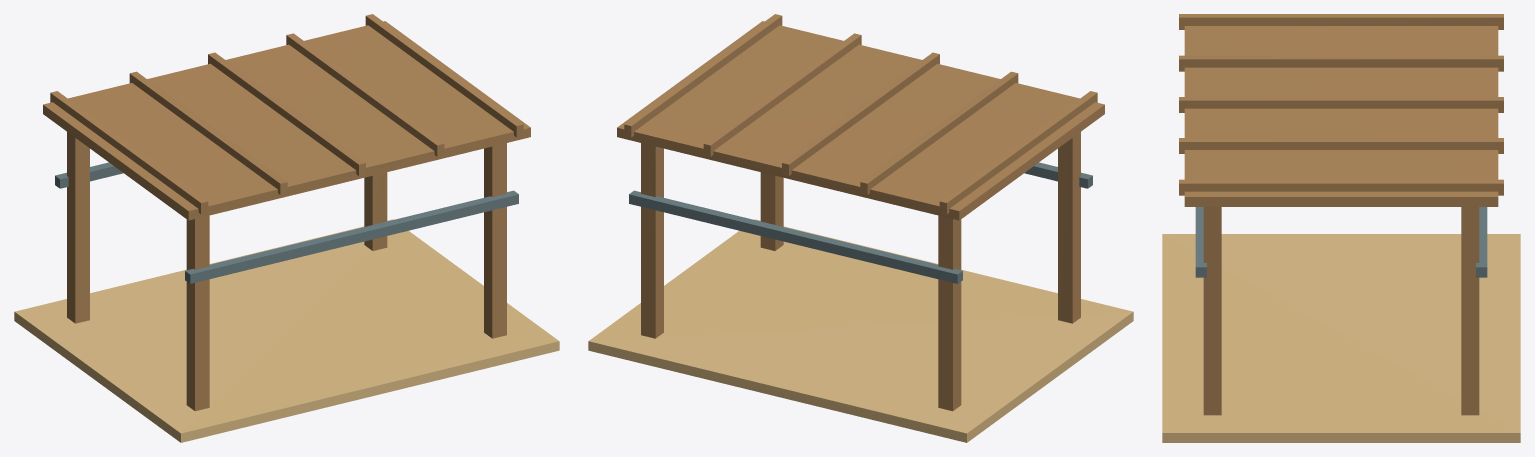
File: Shade-canopy.glb
3 renders of one model, left to right at view 1: azimuth 30°, elevation 25°; view 2: azimuth 150°, elevation 25°; view 3: azimuth 270°, elevation 25°, orthographic. The views are drawn at different scales.
Parts seen in each view (by area): view 1: shade-canopy-static-shade-earth, shade-canopy-static-shade-fabric, shade-canopy-static-shade-timber, shade-canopy-static-shade-teal, shade-canopy-static-shade-metal; view 2: shade-canopy-static-shade-earth, shade-canopy-static-shade-fabric, shade-canopy-static-shade-timber, shade-canopy-static-shade-teal, shade-canopy-static-shade-metal; view 3: shade-canopy-static-shade-earth, shade-canopy-static-shade-fabric, shade-canopy-static-shade-teal, shade-canopy-static-shade-timber, shade-canopy-static-shade-metal.
Boxes of the visible parts, x1=… form: shade-canopy-static-shade-earth: x1=14, y1=219, x2=559, y2=442; shade-canopy-static-shade-fabric: x1=43, y1=21, x2=530, y2=220; shade-canopy-static-shade-timber: x1=67, y1=132, x2=506, y2=411; shade-canopy-static-shade-teal: x1=50, y1=14, x2=523, y2=214; shade-canopy-static-shade-metal: x1=55, y1=162, x2=518, y2=283; shade-canopy-static-shade-earth: x1=588, y1=219, x2=1133, y2=442; shade-canopy-static-shade-fabric: x1=617, y1=21, x2=1104, y2=220; shade-canopy-static-shade-timber: x1=641, y1=132, x2=1080, y2=411; shade-canopy-static-shade-teal: x1=624, y1=14, x2=1097, y2=214; shade-canopy-static-shade-metal: x1=629, y1=162, x2=1092, y2=283; shade-canopy-static-shade-earth: x1=1162, y1=234, x2=1520, y2=442; shade-canopy-static-shade-fabric: x1=1184, y1=26, x2=1498, y2=206; shade-canopy-static-shade-teal: x1=1179, y1=14, x2=1503, y2=195; shade-canopy-static-shade-timber: x1=1203, y1=207, x2=1479, y2=415; shade-canopy-static-shade-metal: x1=1195, y1=207, x2=1487, y2=277.
Size of the model in its own units: 4.2 by 2.41 by 3.2.
